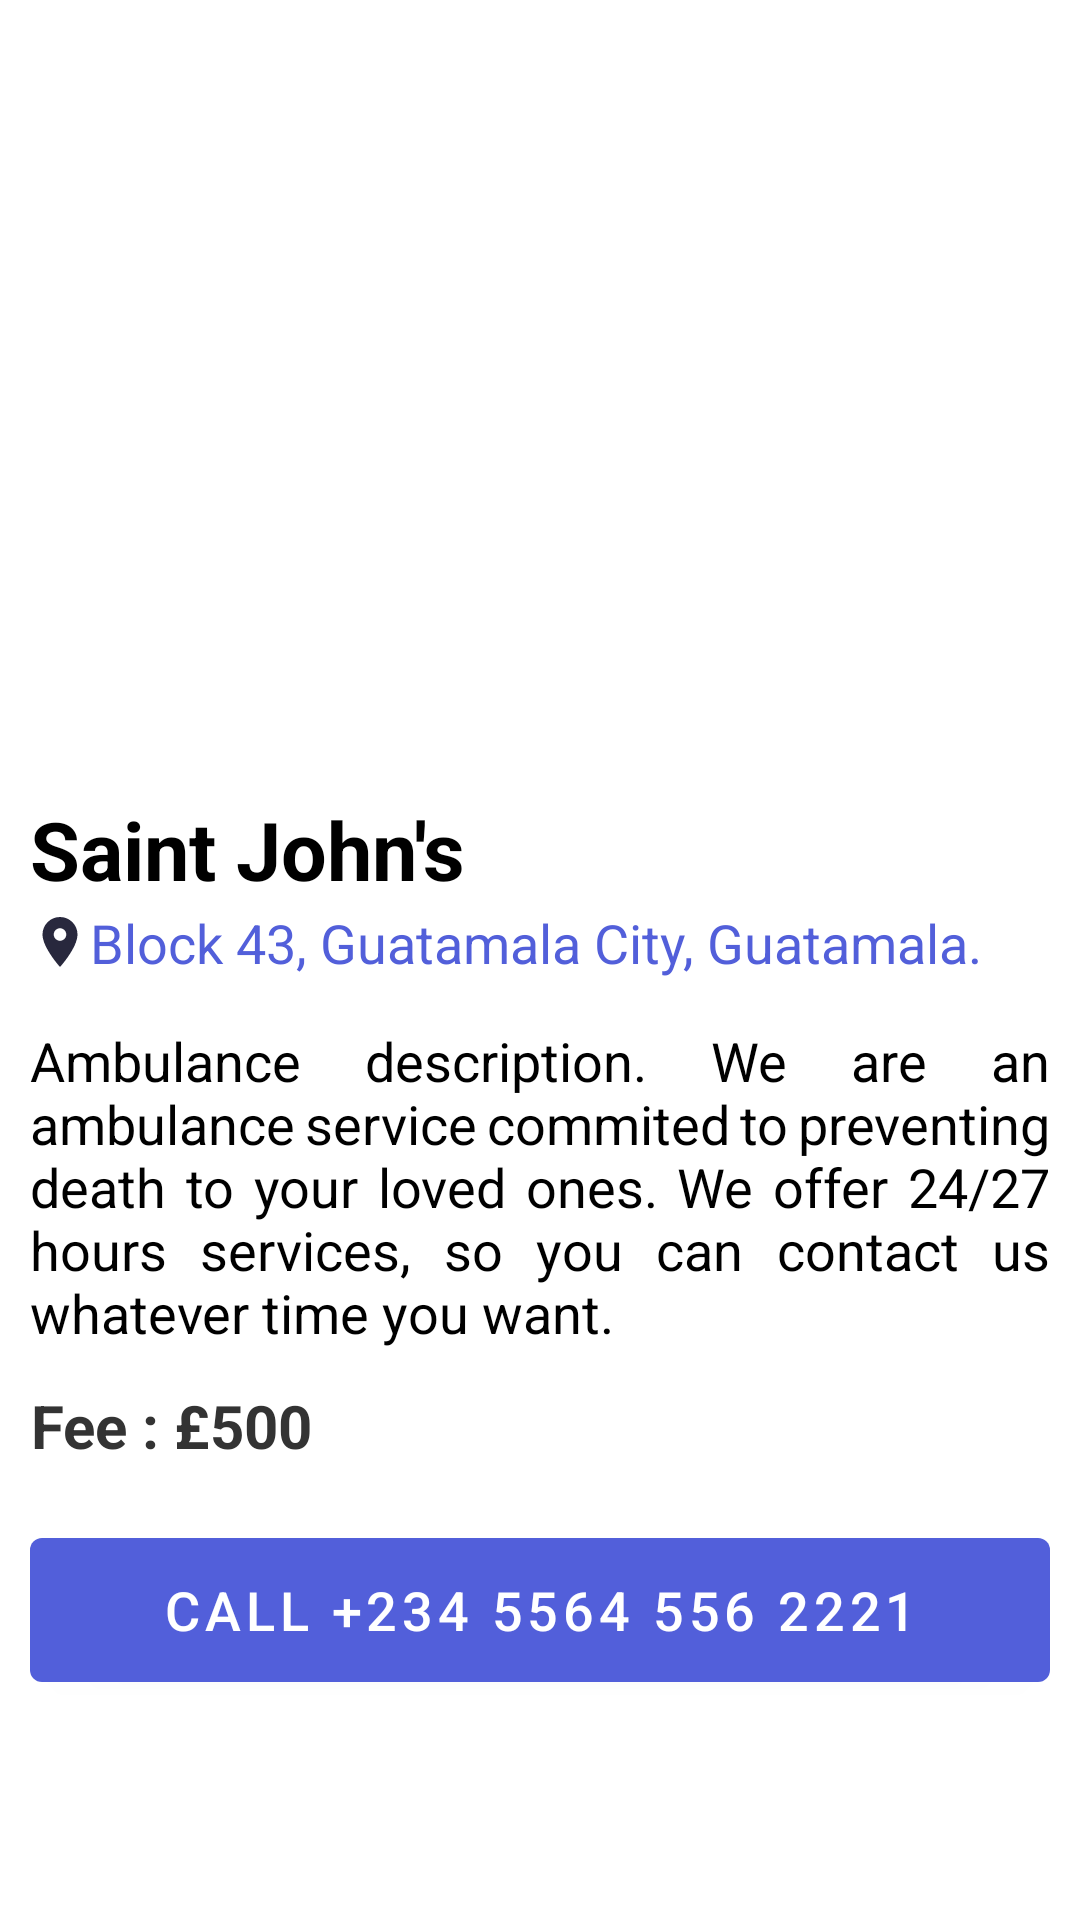

Locate icon controls on the screen. Image size 1080 x 1920, boxes as (x1, y1, x2, y2).
location on: (42, 917, 78, 967)
